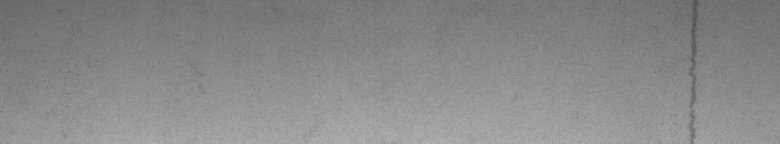hd: (684, 4, 701, 136)
